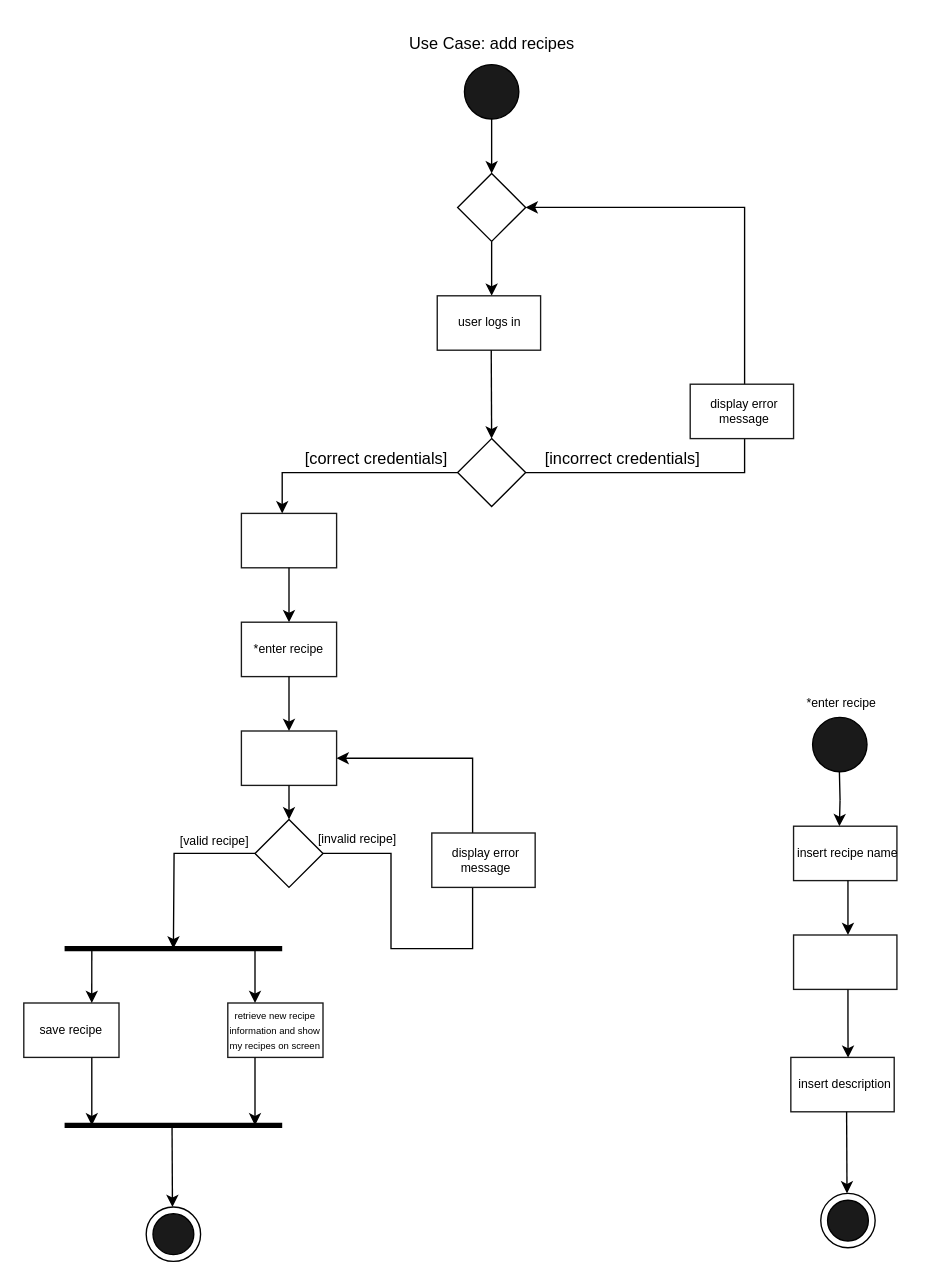
Some shapes in this 926 by 1285 pixel diagram are drawn without their labels. Each missing label, with the centre of its shape:
ask system to add new recipe: point 288,540
insert ingredients with quantity: point 844,961
verify recipe: point 288,757
